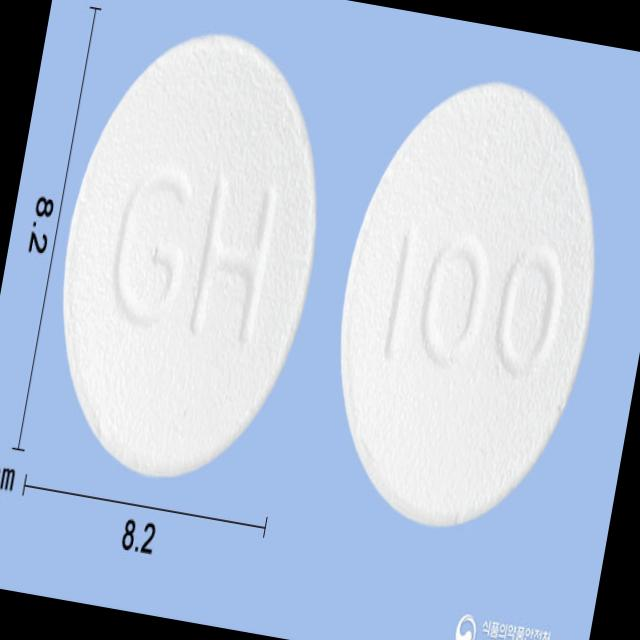Levona -500mg: (27, 11, 350, 500), (307, 58, 628, 550)
